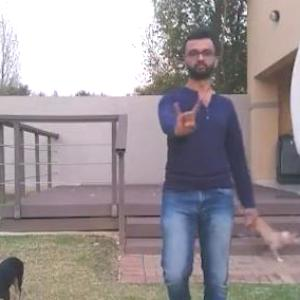takeoff-hand: (165, 88, 205, 144)
